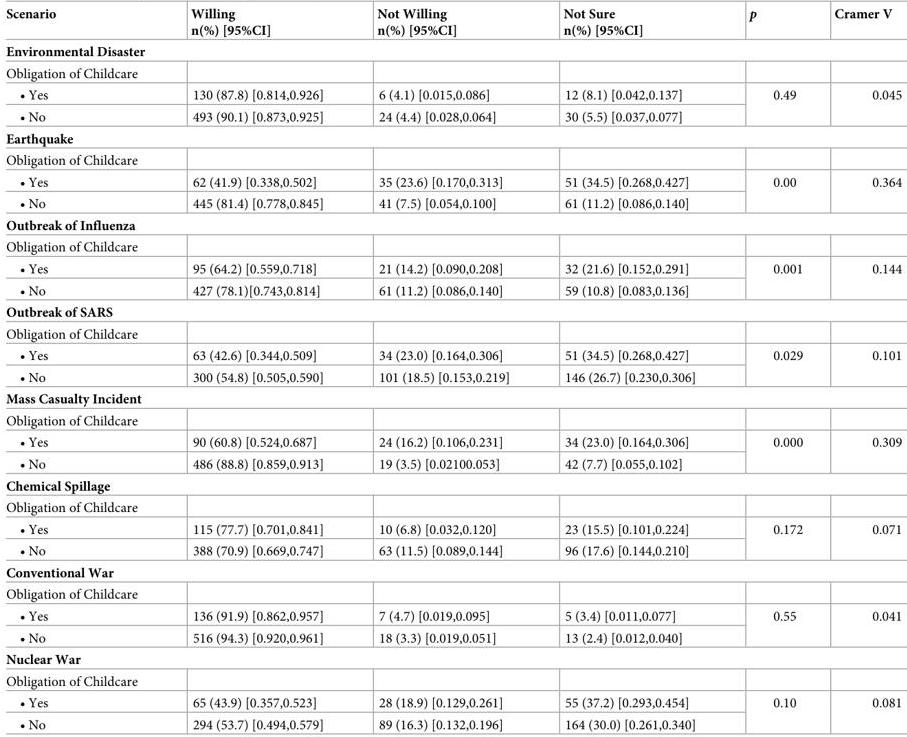table: (5, 4, 901, 732)
table column: (123, 4, 350, 732), (350, 4, 536, 732), (536, 4, 722, 732), (5, 4, 123, 732), (722, 4, 818, 732), (818, 4, 901, 732)
table column header: (5, 4, 901, 41)
table projected row header: (5, 41, 901, 63), (5, 149, 901, 171), (5, 214, 901, 236), (5, 236, 901, 258), (5, 301, 901, 323), (5, 323, 901, 345), (5, 388, 901, 410), (5, 410, 901, 432), (5, 475, 901, 497), (5, 583, 901, 605), (5, 670, 901, 692), (5, 63, 901, 84), (5, 128, 901, 149), (5, 497, 901, 518), (5, 562, 901, 583), (5, 649, 901, 670)
table row: (5, 4, 901, 41), (5, 41, 901, 63), (5, 84, 901, 106), (5, 106, 901, 128), (5, 149, 901, 171), (5, 171, 901, 193), (5, 214, 901, 236), (5, 236, 901, 258), (5, 258, 901, 280), (5, 301, 901, 323), (5, 323, 901, 345), (5, 366, 901, 388), (5, 388, 901, 410), (5, 410, 901, 432), (5, 453, 901, 475), (5, 475, 901, 497), (5, 518, 901, 540), (5, 540, 901, 562), (5, 583, 901, 605), (5, 605, 901, 627), (5, 627, 901, 649), (5, 670, 901, 692), (5, 692, 901, 714), (5, 63, 901, 84), (5, 128, 901, 149), (5, 193, 901, 214), (5, 280, 901, 301), (5, 345, 901, 366), (5, 432, 901, 453), (5, 497, 901, 518), (5, 562, 901, 583), (5, 649, 901, 670), (5, 714, 901, 732)
table spanning cell: (722, 84, 818, 128), (722, 518, 818, 562), (722, 605, 818, 649), (722, 171, 818, 214), (722, 258, 818, 301), (722, 345, 818, 388), (722, 432, 818, 475), (722, 692, 818, 732), (818, 84, 901, 128), (818, 518, 901, 562), (818, 605, 901, 649), (818, 171, 901, 214), (818, 258, 901, 301), (818, 345, 901, 388), (818, 432, 901, 475), (818, 692, 901, 732)
